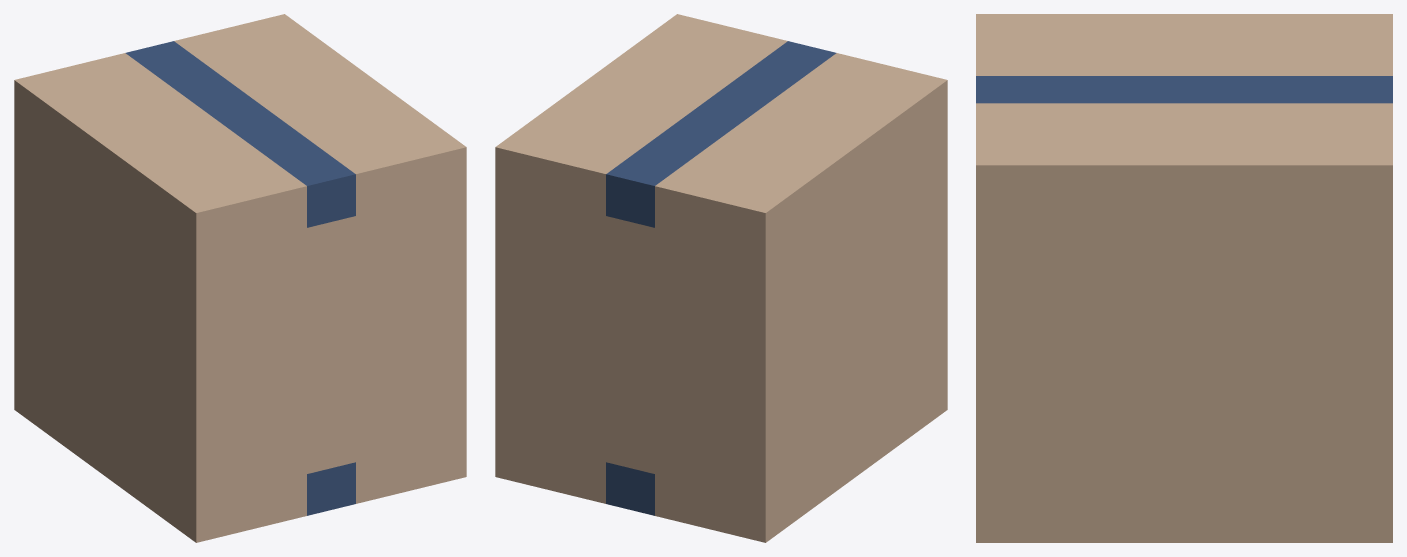
Rendered from tape_BLUE_03.fbx.
The picture shows the model from 3 angles, left to right: view 1: azimuth 30°, elevation 25°; view 2: azimuth 150°, elevation 25°; view 3: azimuth 270°, elevation 25°; orthographic projection. The views are drawn at different scales.
Visible parts, largest first — view 1: Cardboard Box 03; view 2: Cardboard Box 03; view 3: Cardboard Box 03.
Part boxes in pixels (box(x1,y1,x2,y2)): Cardboard Box 03: box(14, 14, 466, 542); Cardboard Box 03: box(495, 14, 947, 542); Cardboard Box 03: box(976, 14, 1392, 542).
Bounding box in the file's own units: 19.48 × 22.7 × 22.7.
